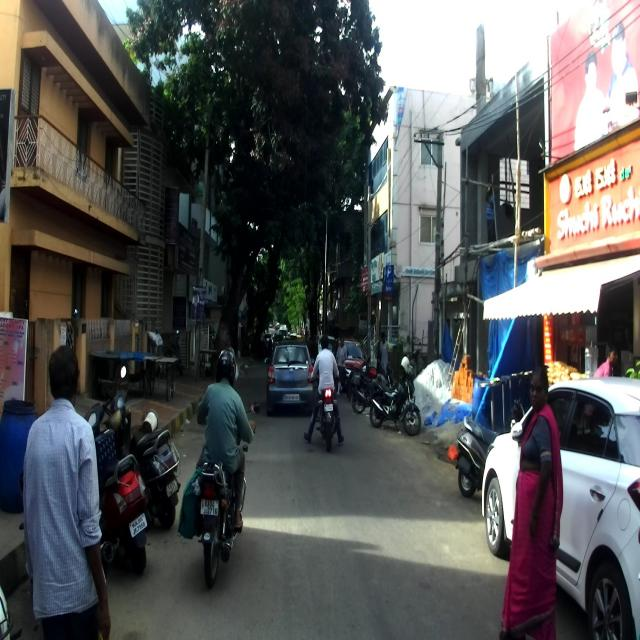car: (480, 374, 640, 640)
motorcycle: (197, 399, 261, 589), (308, 368, 341, 452)
scooter: (77, 393, 149, 575), (104, 363, 181, 531), (455, 398, 525, 497)
